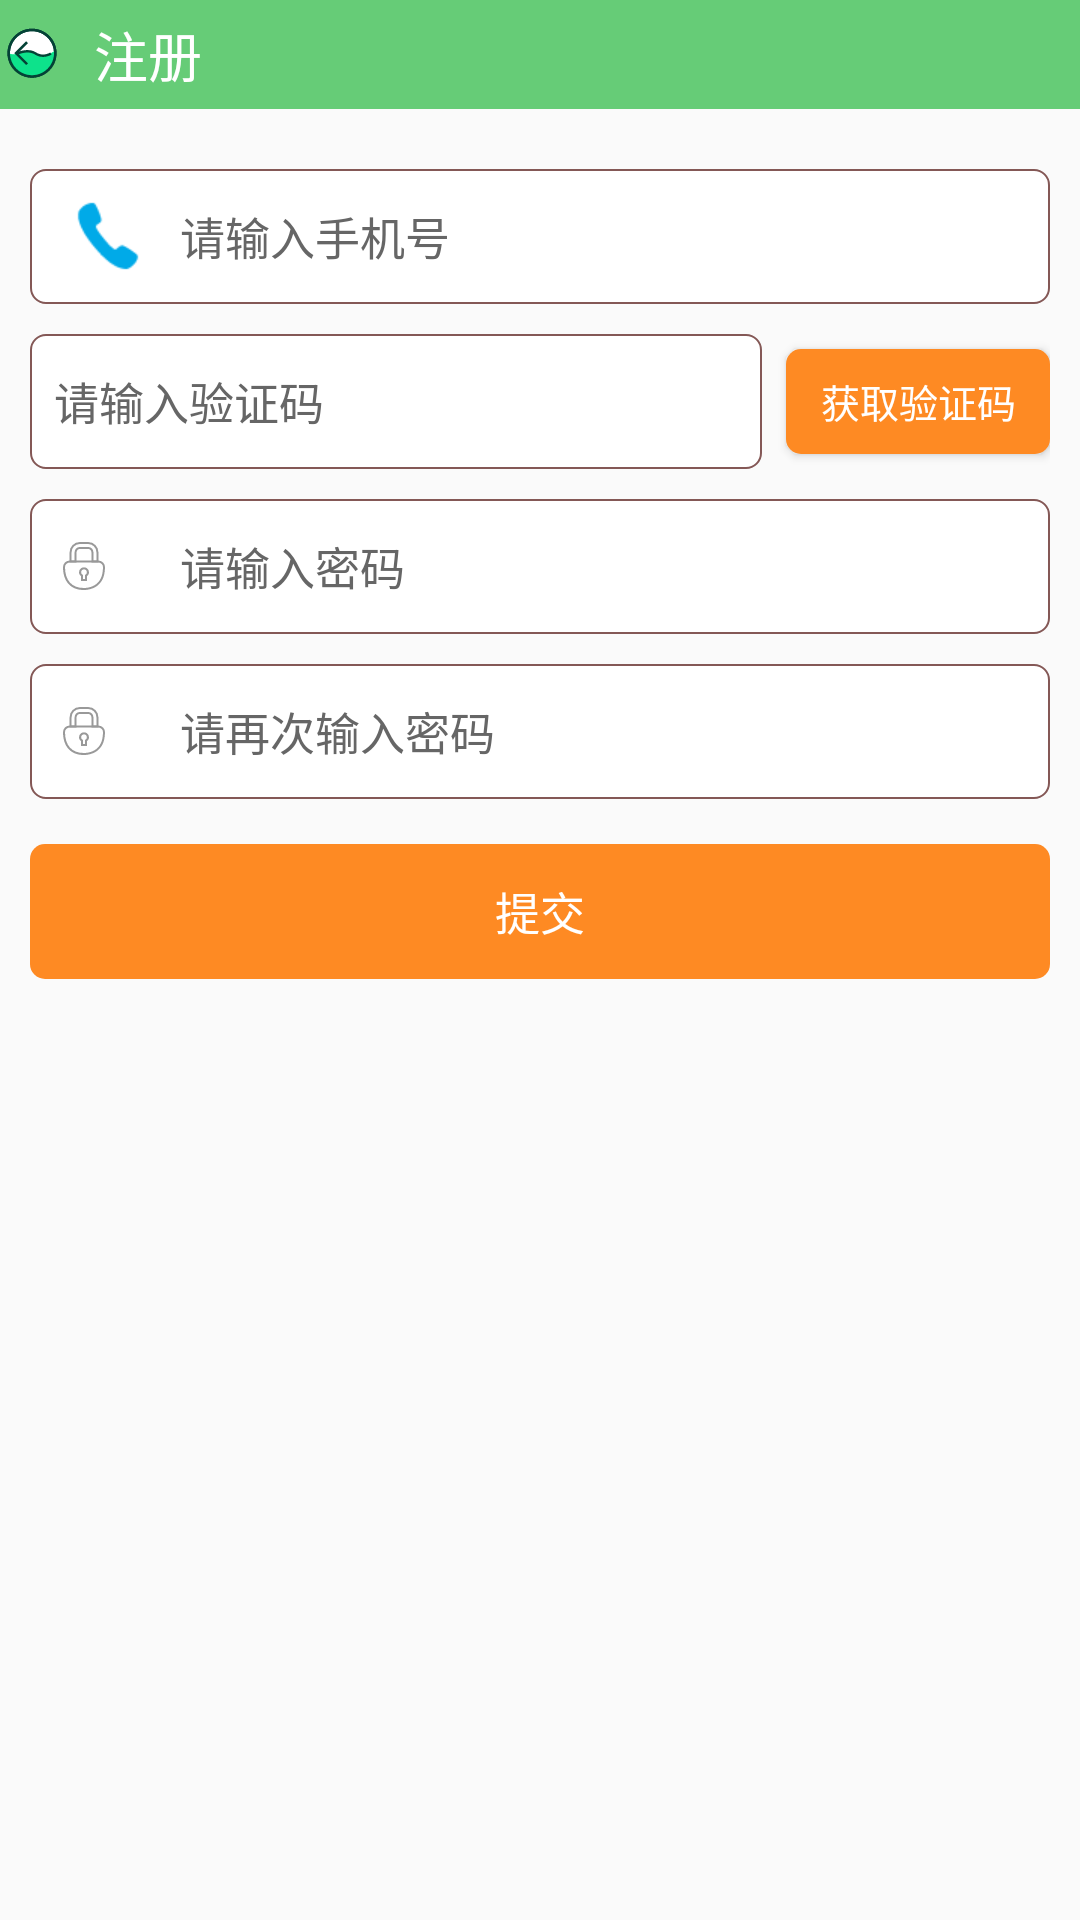

Icon bounding boxes for this 1080 × 1920 phone screenshot, format (x1, y1, x2, y2):
password: (63, 542, 105, 590), (63, 707, 105, 755)
phone: (77, 202, 139, 270)
